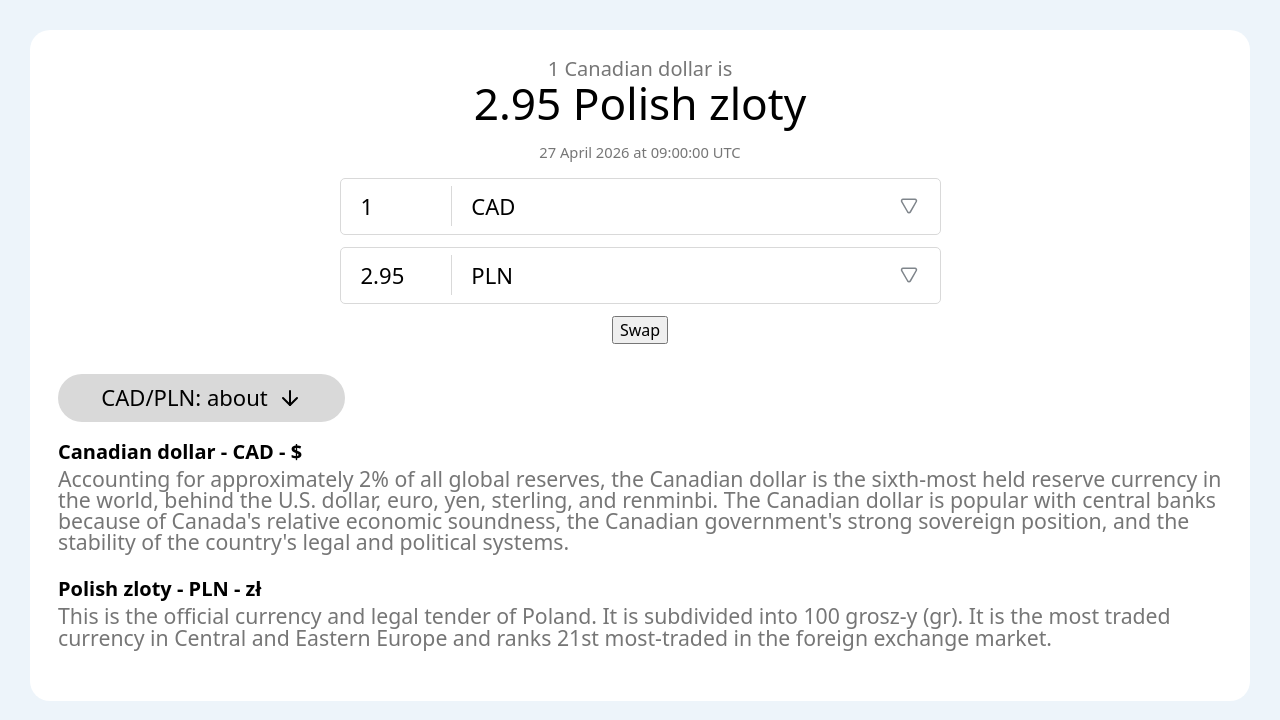
Currency converter › RecalculateConversionWhenAmountChanges
Replace the text in the field with id "from-input-amount" with "2" at (396, 206), box [340,178,450,234]
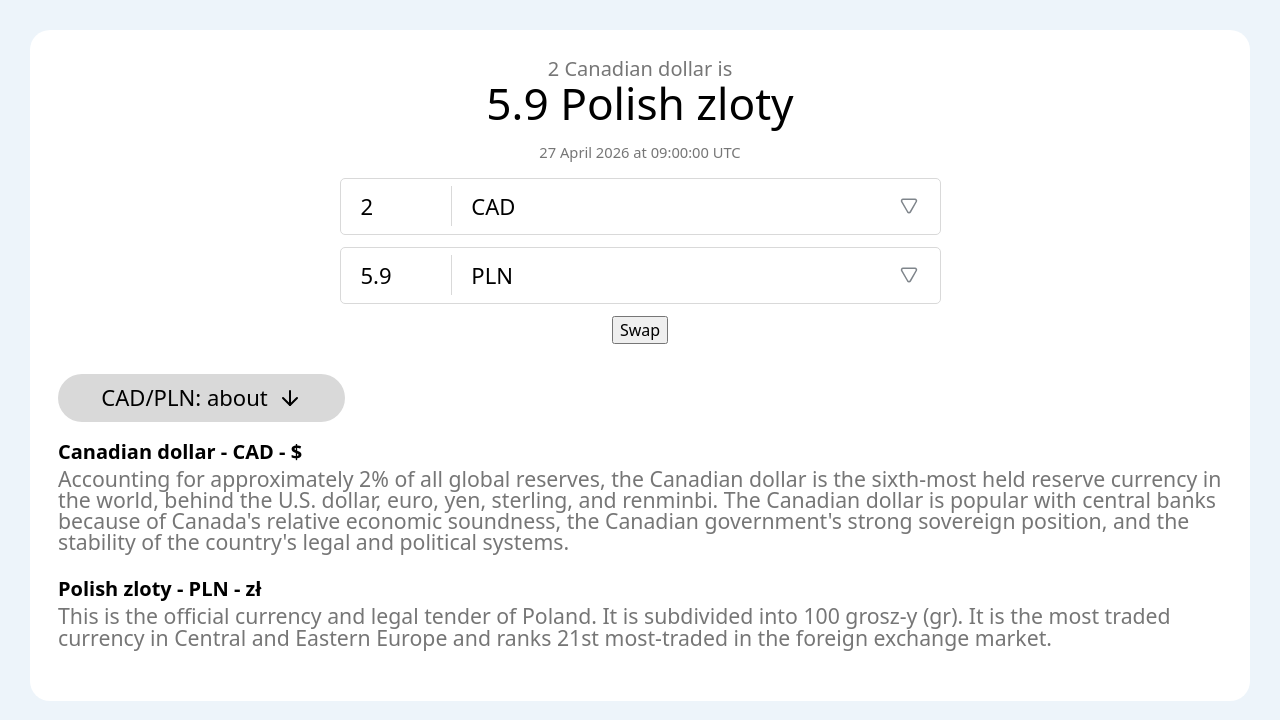
Result: the field with id "to-input-amount" holds "5.9" at [340,248,450,302]
